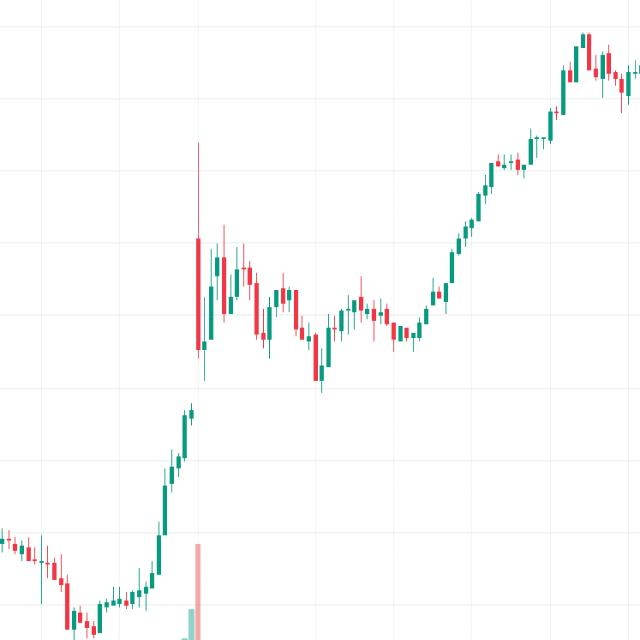Triangle: (174, 206, 482, 448)
